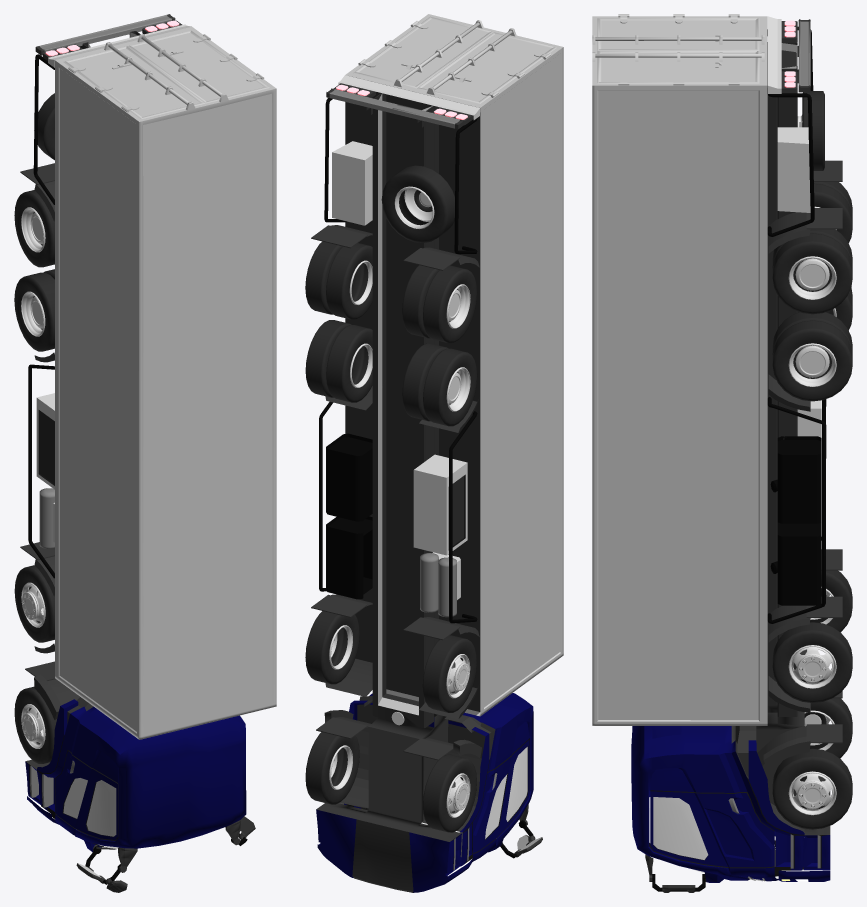
File: Truck.gltf
3 renders of one model, left to right at view 1: azimuth 30°, elevation 25°; view 2: azimuth 150°, elevation 25°; view 3: azimuth 270°, elevation 25°, orthographic. The views are drawn at different scales.
Parts seen in each view (by area): view 1: Truck_body_Truck_body.L_3, Truck_head_Truck_head.L_1, wheels_Circle.010_18, wheels_Circle.028_11, wheels_Circle.006_20, wheels_Circle.027_9, wheels_Circle.007_21, wheels_Circle.009_17, wheels_Circle.029_12, wheels_Circle.026_8; view 2: Truck_body_Truck_body.L_3, Truck_head_Truck_head.L_1, wheels_Circle.008_23, wheels_Circle.010_18, wheels_Circle.013_26, wheels_Circle.006_20, wheels_Circle.025_15, wheels_Circle.001_5, wheels_Circle.027_9, wheels_Circle.028_11, wheels_Circle.009_17, wheels_Circle.007_21 (+2 smaller); view 3: Truck_body_Truck_body.L_3, Truck_head_Truck_head.L_1, wheels_Circle.008_23, wheels_Circle.013_26, wheels_Circle.025_15, wheels_Circle.001_5, wheels_Circle.024_14, wheels_Circle.002_6, wheels_Circle.014_27, wheels_Circle.012_24, wheels_Circle.027_9, wheels_Circle.006_20 (+1 smaller).
Part boxes in pixels (<box>): Truck_body_Truck_body.L_3: <box>20,14,276,739</box>; Truck_head_Truck_head.L_1: <box>25,661,255,892</box>; wheels_Circle.010_18: <box>14,269,54,351</box>; wheels_Circle.028_11: <box>14,565,54,642</box>; wheels_Circle.006_20: <box>14,190,54,267</box>; wheels_Circle.027_9: <box>14,686,56,763</box>; wheels_Circle.007_21: <box>21,207,45,252</box>; wheels_Circle.009_17: <box>21,291,45,336</box>; wheels_Circle.029_12: <box>21,582,45,627</box>; wheels_Circle.026_8: <box>21,704,45,748</box>; Truck_body_Truck_body.L_3: <box>311,14,563,727</box>; Truck_head_Truck_head.L_1: <box>316,693,542,892</box>; wheels_Circle.008_23: <box>305,320,372,402</box>; wheels_Circle.010_18: <box>402,343,477,426</box>; wheels_Circle.013_26: <box>305,241,372,319</box>; wheels_Circle.006_20: <box>402,265,476,343</box>; wheels_Circle.025_15: <box>305,611,359,684</box>; wheels_Circle.001_5: <box>305,732,359,804</box>; wheels_Circle.027_9: <box>423,754,476,832</box>; wheels_Circle.028_11: <box>422,635,476,712</box>; wheels_Circle.009_17: <box>446,367,470,411</box>; wheels_Circle.007_21: <box>446,284,470,328</box>; Truck_body_Truck_body.L_3: <box>592,14,842,725</box>; Truck_head_Truck_head.L_1: <box>631,691,842,892</box>; wheels_Circle.008_23: <box>772,312,852,401</box>; wheels_Circle.013_26: <box>772,229,852,314</box>; wheels_Circle.025_15: <box>772,622,852,702</box>; wheels_Circle.001_5: <box>772,748,852,829</box>; wheels_Circle.024_14: <box>788,645,836,688</box>; wheels_Circle.002_6: <box>788,771,836,815</box>; wheels_Circle.014_27: <box>788,256,836,299</box>; wheels_Circle.012_24: <box>788,343,836,386</box>; wheels_Circle.027_9: <box>804,698,852,758</box>; wheels_Circle.006_20: <box>814,182,852,243</box>.
Bounding box in the file's own units: 3.45 × 15.91 × 4.51.
